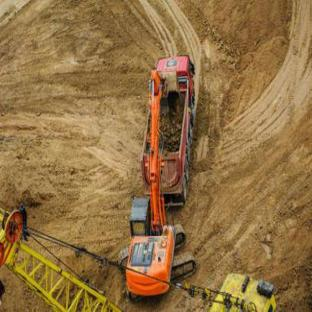ExcavationMachinery: (119, 53, 195, 298)
Vehicle: (140, 54, 195, 198)
